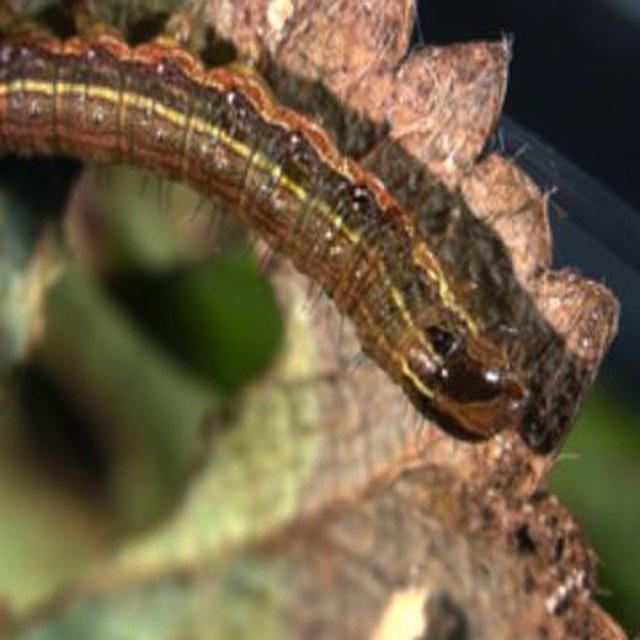gusano_cogollero: (28, 25, 515, 448)
